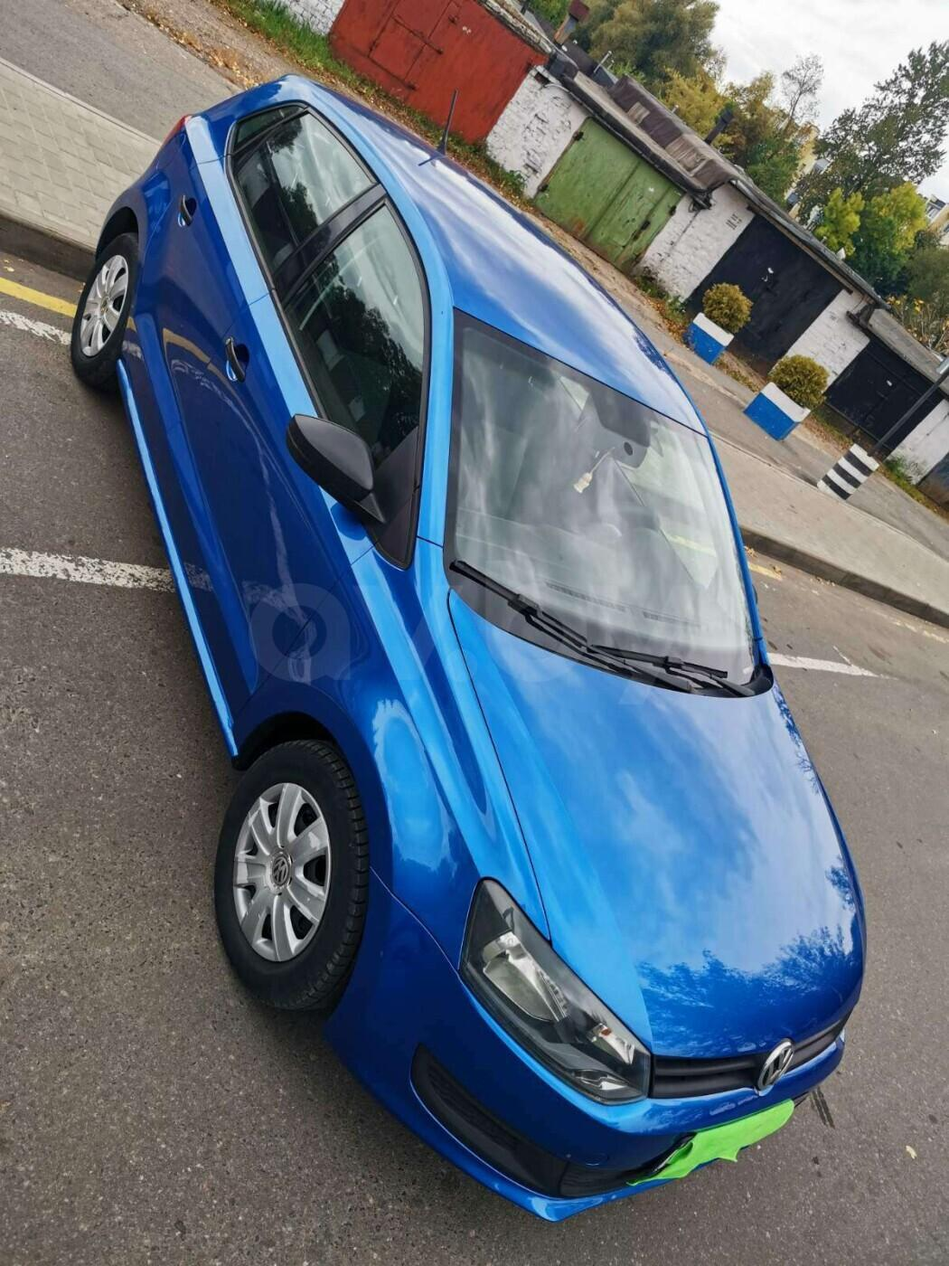Polo_2009-2015: (74, 56, 877, 1252)
